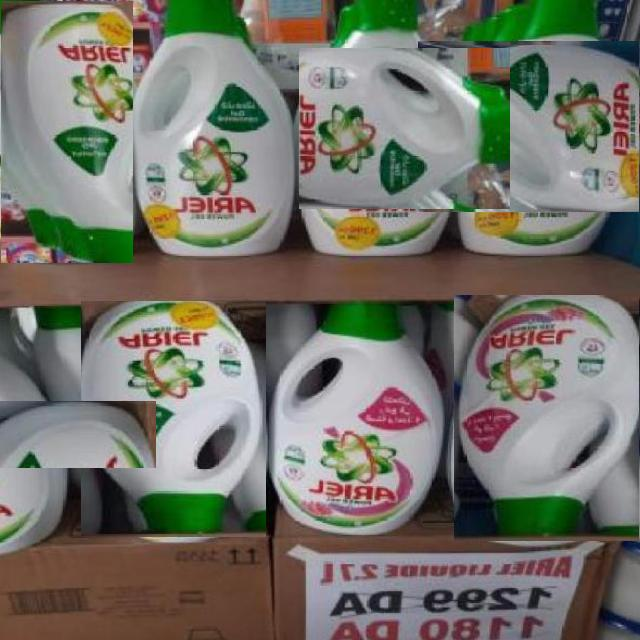Detergent: (453, 295, 640, 541), (80, 300, 266, 537), (254, 48, 510, 209), (138, 0, 299, 253), (418, 41, 640, 212), (277, 299, 437, 535), (0, 0, 133, 263), (0, 400, 156, 468)
